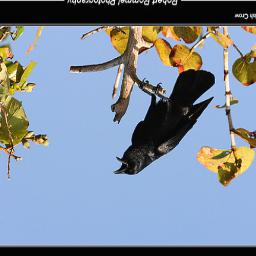Crow: (113, 70, 215, 177)
